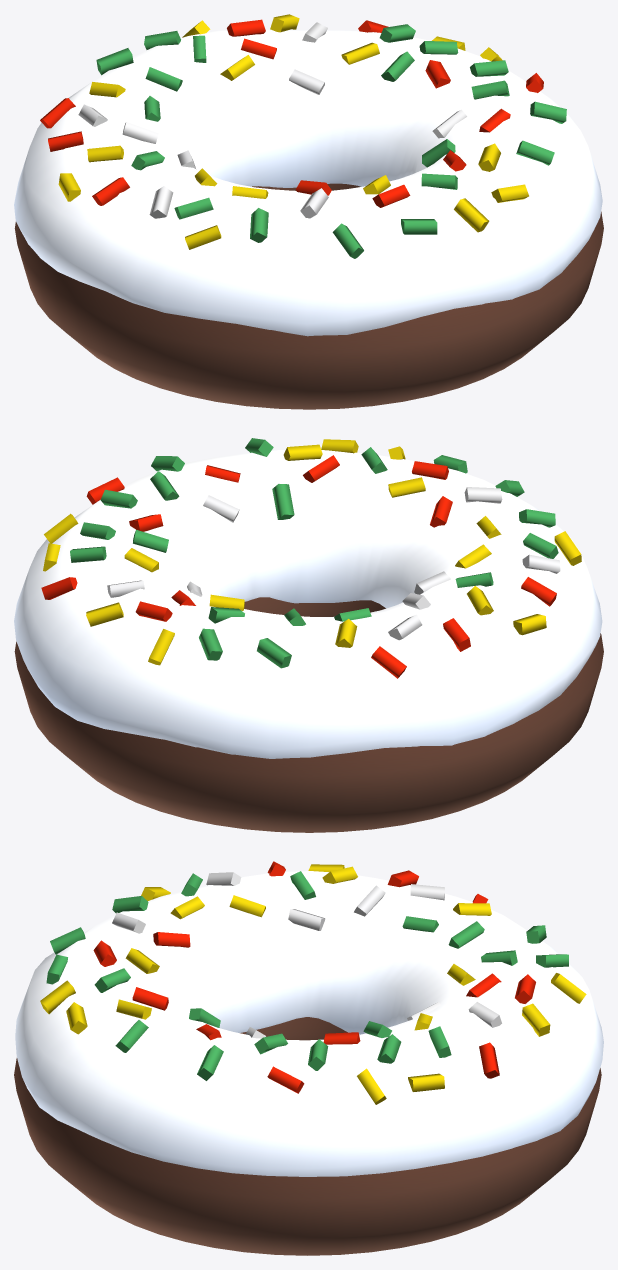
File: Donut_02.glb
3 renders of one model, top to bottom at view 1: azimuth 30°, elevation 25°; view 2: azimuth 150°, elevation 25°; view 3: azimuth 270°, elevation 25°, orthographic.
Parts seen in each view (by area): view 1: Donut_02; view 2: Donut_02; view 3: Donut_02.
Boxes of the visible parts, box(x1,y1,x2,y2) form: Donut_02: box(14, 14, 603, 409); Donut_02: box(14, 438, 603, 832); Donut_02: box(14, 861, 603, 1255).
Size of the model in its own units: 10.73 by 4.22 by 10.69.
2 materials, 2 textured.
